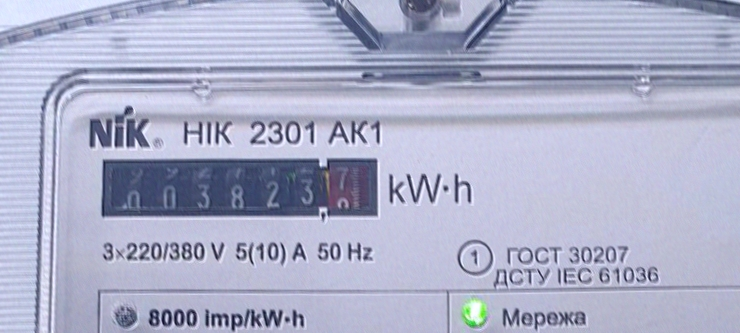0: (159, 180, 179, 207), (125, 184, 143, 208)
2: (264, 176, 283, 208)
3: (299, 174, 317, 205), (195, 178, 213, 207)
7: (336, 164, 352, 192)
8: (229, 180, 246, 208)
9: (126, 163, 145, 183)
screen: (94, 148, 384, 224)
